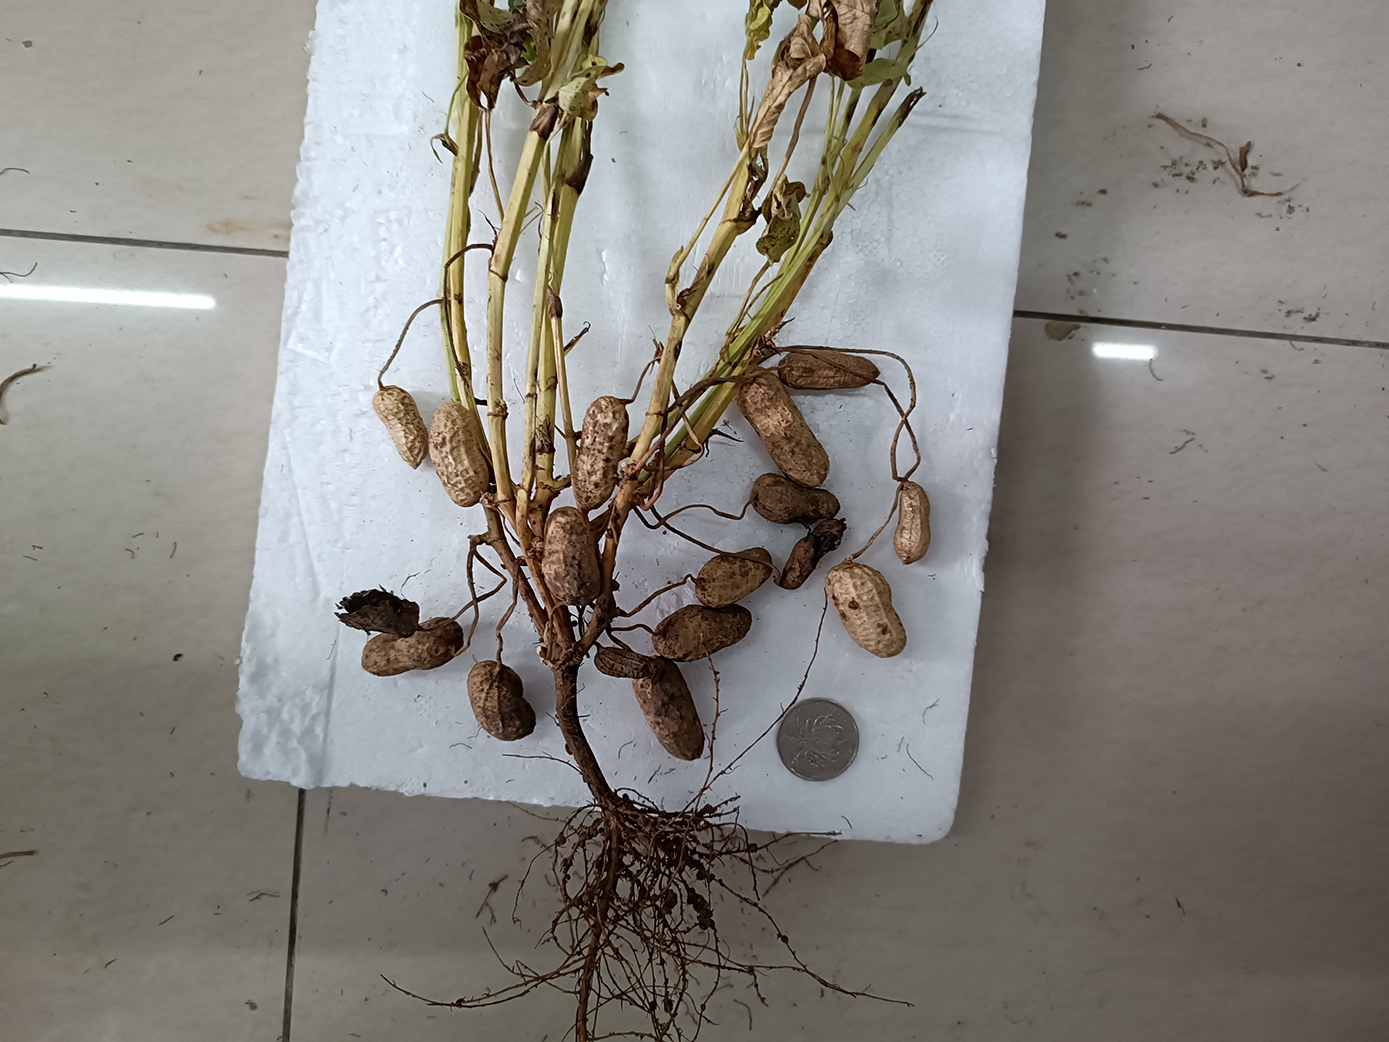h: (736, 367, 830, 488), (825, 561, 907, 658), (429, 401, 488, 508), (540, 507, 602, 605), (467, 660, 537, 742), (694, 548, 774, 607), (374, 385, 427, 468), (894, 481, 931, 564)
l: (630, 655, 704, 761), (572, 395, 630, 509), (360, 618, 464, 678), (652, 604, 752, 662), (776, 517, 845, 590), (334, 583, 419, 637), (750, 472, 841, 522), (776, 350, 882, 391), (594, 645, 652, 678)
